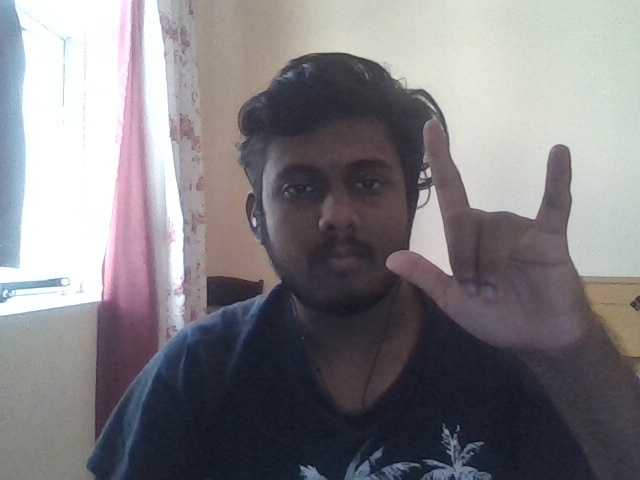thumbsup: (426, 190, 546, 365)
